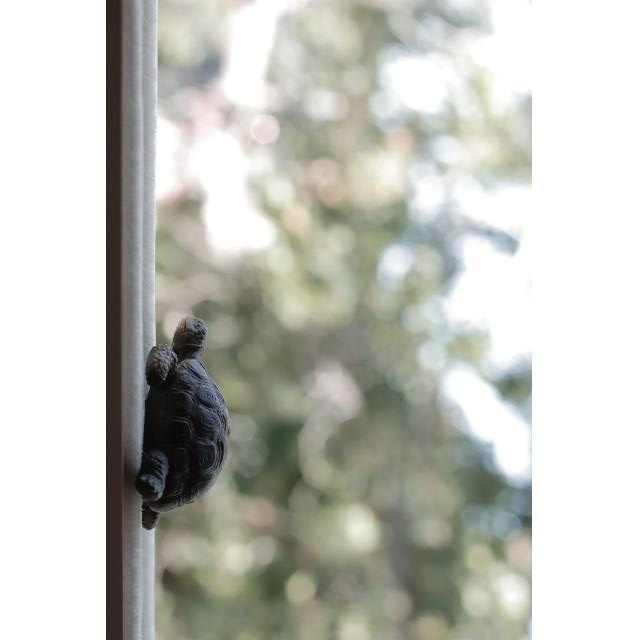turtle: (132, 315, 232, 531)
